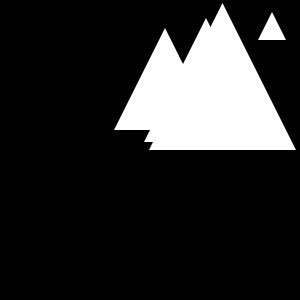triangle: (149, 3, 296, 150), (144, 18, 268, 142), (114, 28, 216, 130), (258, 12, 286, 40)
